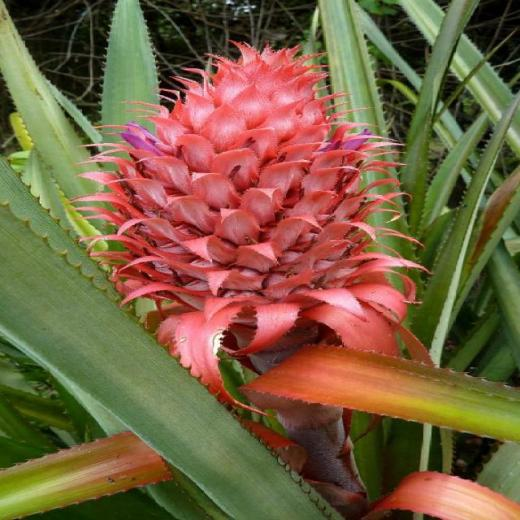Mango: (61, 39, 431, 458)
